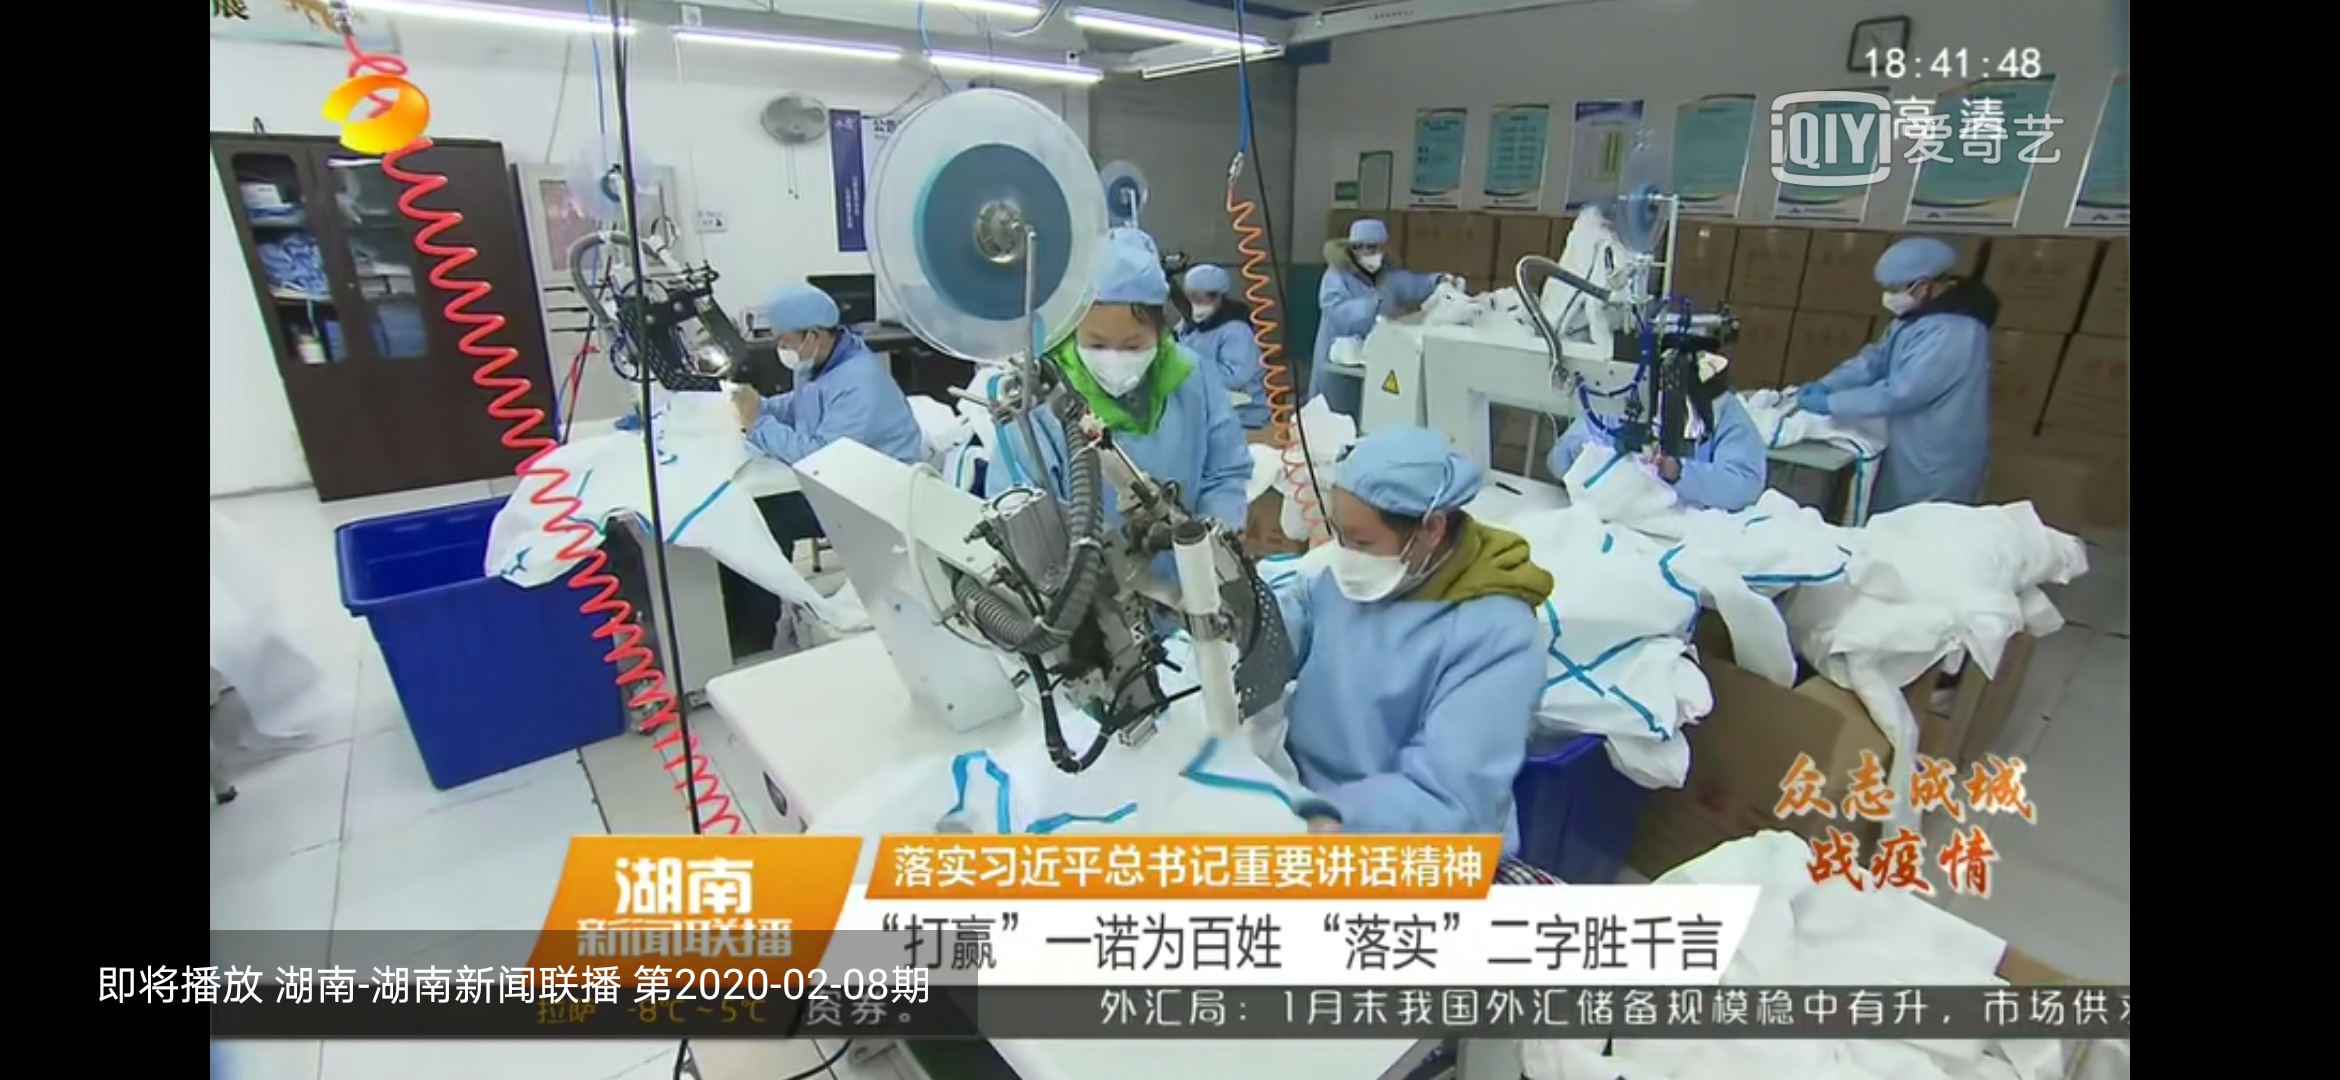correctlyWear: (1327, 497, 1448, 606), (1077, 304, 1161, 403), (1874, 254, 1939, 318), (769, 309, 833, 373), (1182, 274, 1230, 322), (1349, 234, 1389, 279)
